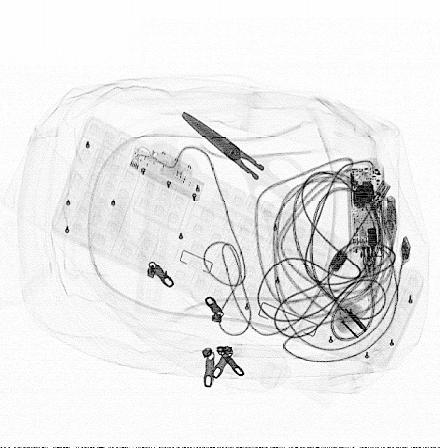Scissors: (180, 108, 309, 223)
